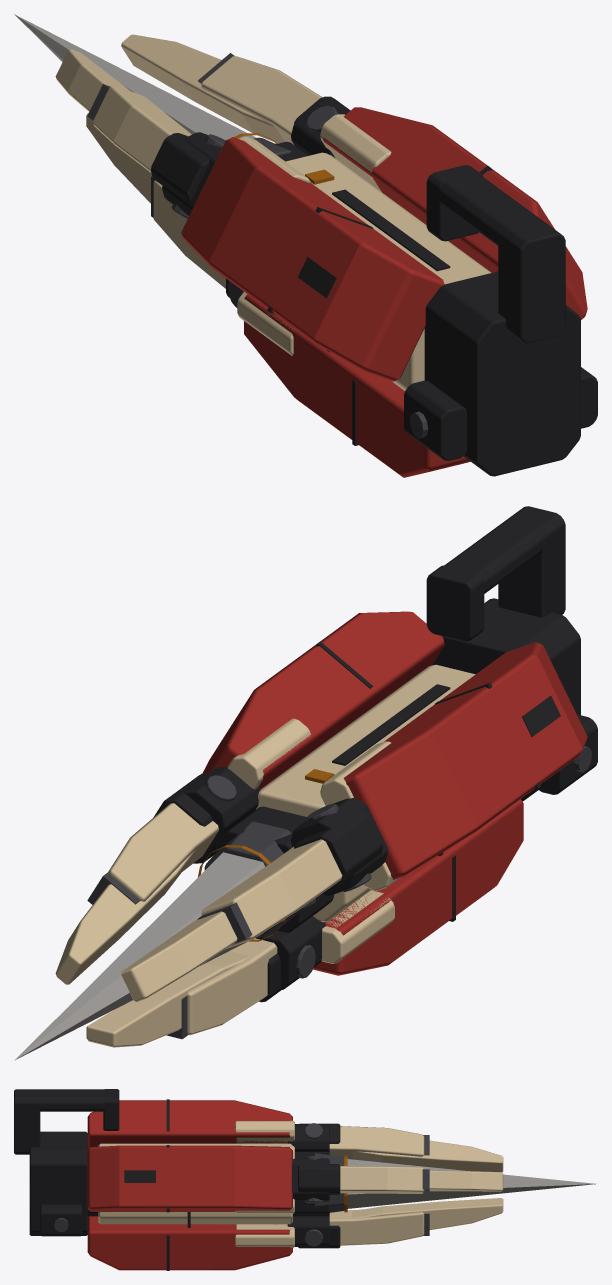
The model's file is pilebunker_4b.glb.
3 renders of one model, top to bottom at view 1: azimuth 30°, elevation 25°; view 2: azimuth 150°, elevation 25°; view 3: azimuth 270°, elevation 25°, orthographic. The views are drawn at different scales.
Parts seen in each view (by area): view 1: Petal1, BracketBack, Petal2, Petal0, BracketLoopBack, Sleeve, ClawTipArm0, BracketLoopTop, ClawArm0, ClawArm1, SpikeBlade, BracketLugL (+13 smaller); view 2: Petal1, Petal0, Petal2, SpikeBlade, Sleeve, BracketBack, ClawArm1, ClawArm0, BracketLoopTop, ClawTipArm2, BracketLoopBack, ClawTipArm1 (+16 smaller); view 3: Petal0, Petal2, Petal1, BracketBack, Sleeve, SpikeBlade, ClawArm2, ClawTipArm1, ClawTipArm2, ClawArm1, ClawArm0, BracketLoopTop (+17 smaller).
Boxes of the visible parts, left/top/right/bottom form: Petal1: left=181, top=137, right=444, bottom=381; BracketBack: left=425, top=271, right=580, bottom=476; Petal2: left=244, top=294, right=470, bottom=477; Petal0: left=323, top=107, right=587, bottom=319; BracketLoopBack: left=498, top=217, right=565, bottom=343; Sleeve: left=285, top=152, right=491, bottom=390; ClawTipArm0: left=121, top=34, right=284, bottom=143; BracketLoopTop: left=426, top=165, right=565, bottom=263; ClawArm0: left=201, top=56, right=322, bottom=144; ClawArm1: left=93, top=85, right=191, bottom=172; SpikeBlade: left=14, top=14, right=256, bottom=140; BracketLugL: left=404, top=380, right=466, bottom=460; Petal1: left=343, top=642, right=587, bottom=879; Petal0: left=203, top=611, right=444, bottom=789; Petal2: left=313, top=799, right=523, bottom=975; SpikeBlade: left=14, top=852, right=265, bottom=1060; Sleeve: left=255, top=664, right=475, bottom=921; BracketBack: left=432, top=598, right=580, bottom=801; ClawArm1: left=201, top=839, right=342, bottom=949; ClawArm0: left=108, top=803, right=218, bottom=901; BracketLoopTop: left=426, top=506, right=565, bottom=605; ClawTipArm2: left=86, top=951, right=248, bottom=1047; BracketLoopBack: left=498, top=506, right=565, bottom=617; ClawTipArm1: left=121, top=911, right=237, bottom=1001; Petal0: left=87, top=1145, right=292, bottom=1211; Petal2: left=87, top=1216, right=292, bottom=1270; Petal1: left=87, top=1100, right=292, bottom=1149; BracketBack: left=29, top=1131, right=87, bottom=1235; Sleeve: left=98, top=1143, right=292, bottom=1224; SpikeBlade: left=347, top=1159, right=596, bottom=1208; ClawArm2: left=329, top=1209, right=424, bottom=1245; ClawTipArm1: left=352, top=1140, right=503, bottom=1172; ClawTipArm2: left=352, top=1198, right=503, bottom=1229; ClawArm1: left=329, top=1126, right=424, bottom=1159; ClawArm0: left=340, top=1166, right=424, bottom=1193; BracketLoopTop: left=14, top=1089, right=119, bottom=1111.
Bounding box in the file's own units: 1.64 × 1.73 × 5.55.
